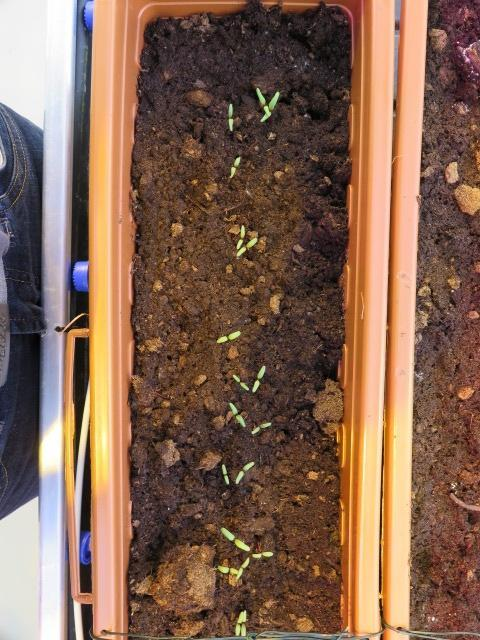crop: (226, 397, 246, 433), (233, 453, 255, 485), (213, 325, 240, 349), (247, 416, 273, 439), (226, 150, 240, 183), (218, 456, 230, 492), (225, 96, 234, 136)
